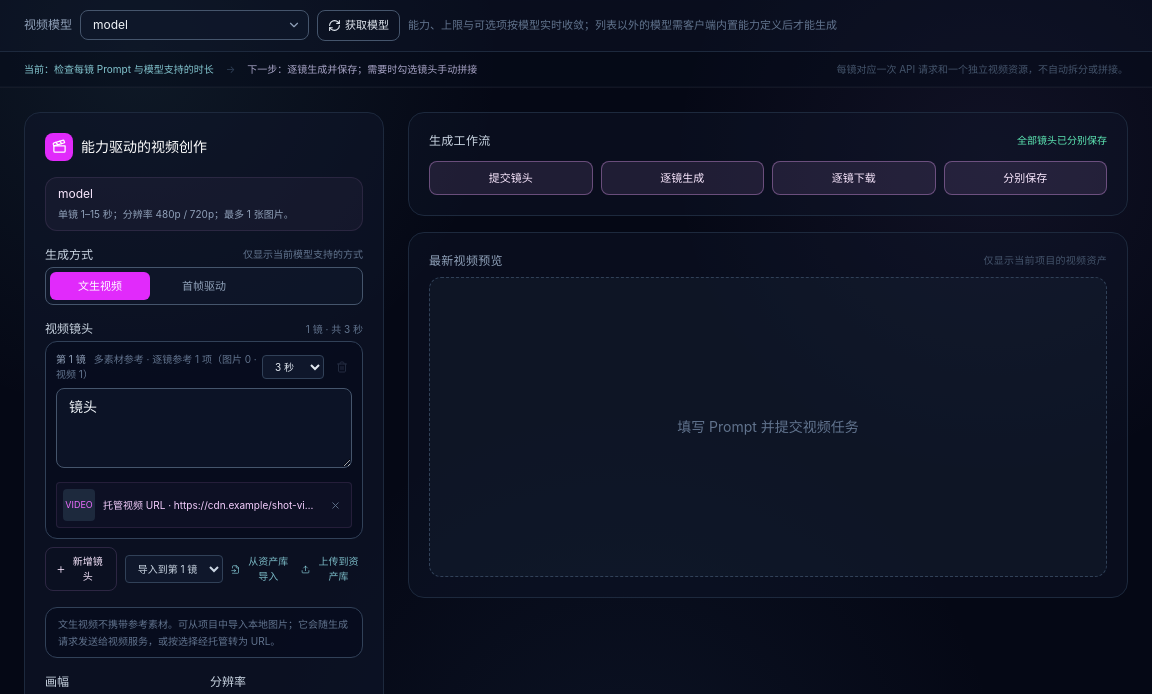
Test: VideoPanel storyboard import › renders shot reference videos and clicking remove button deletes it and resets referenceStrategy
Expected: the text "托管视频 URL · https://cdn.example/shot-video.mp4" is shown, 103,498 -> 318,513
Click the button named "移除托管视频 https://cdn.example/shot-video.mp4".
click(336, 505)  # box 326,496 -> 345,515
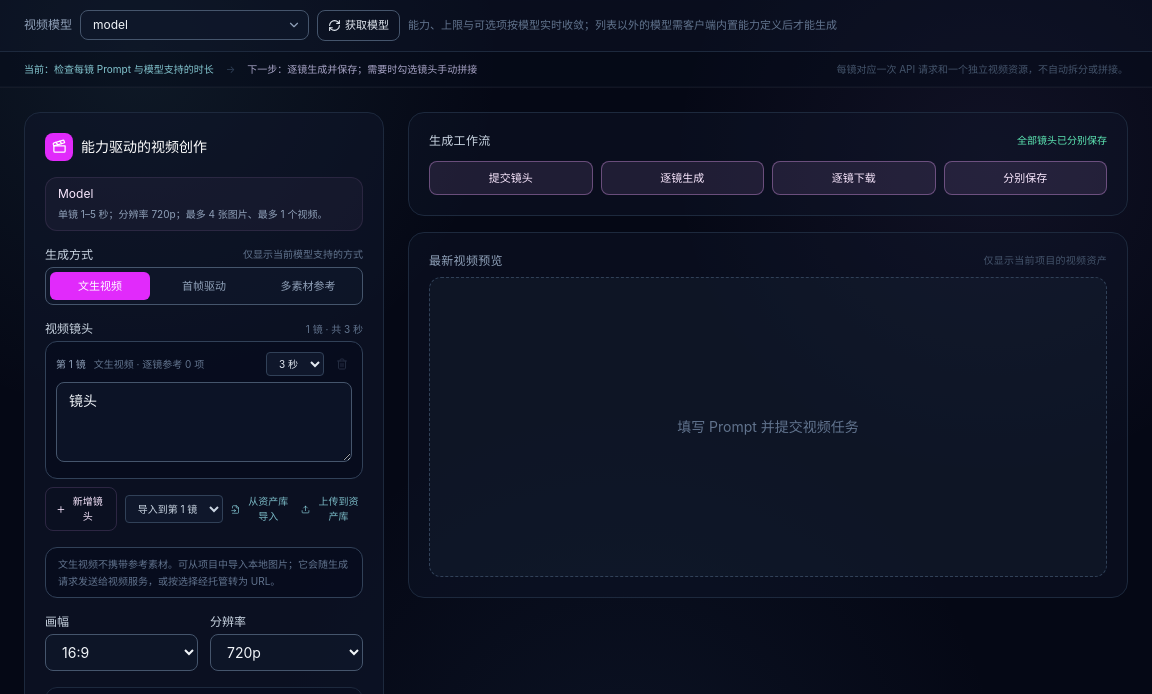
Expected: the text "托管视频 URL · https://cdn.example/shot-video.mp4" is gone
